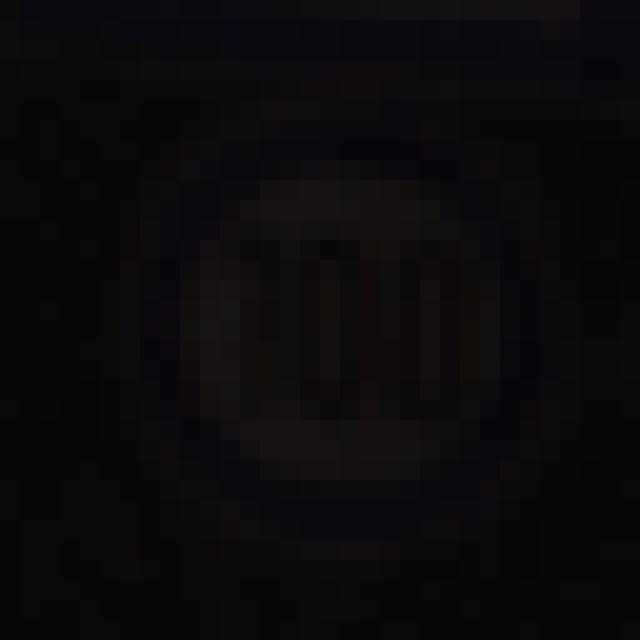SPEED LIMIT 100: (128, 135, 540, 523)
